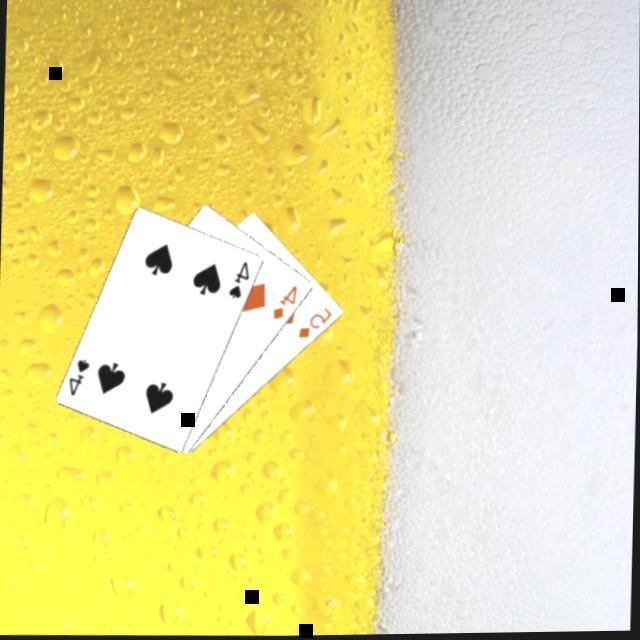4D: (270, 284, 301, 325)
4S: (226, 260, 254, 304), (66, 357, 94, 401)
5D: (296, 307, 336, 344)
